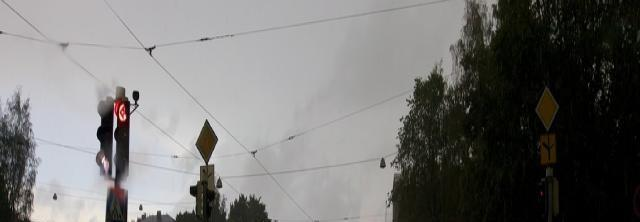red_light: (114, 97, 130, 175)
